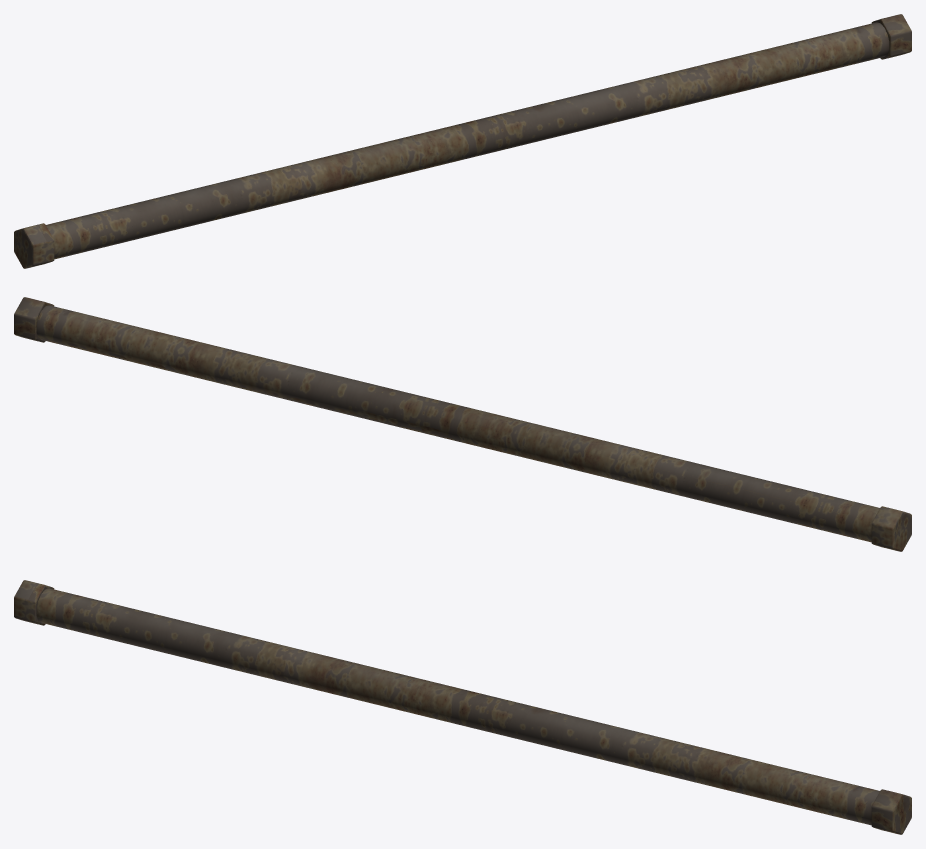
File: Pipe_Small_2m.fbx
3 views of the same model, one above another, from view 1: azimuth 30°, elevation 25°; view 2: azimuth 150°, elevation 25°; view 3: azimuth 330°, elevation 25° (orthographic).
Visible parts, largest first — view 1: Pipe_Small_2m_Mesh; view 2: Pipe_Small_2m_Mesh; view 3: Pipe_Small_2m_Mesh.
Part boxes in pixels (box(x1,y1,x2,y2)): Pipe_Small_2m_Mesh: box(14, 14, 911, 268); Pipe_Small_2m_Mesh: box(14, 297, 911, 551); Pipe_Small_2m_Mesh: box(14, 580, 911, 834).
Bounding box in the file's own units: 2 × 0.088 × 0.0776.
